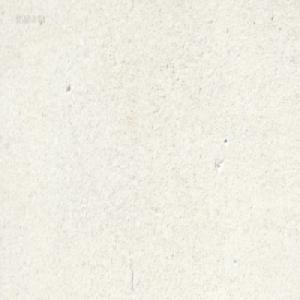Wrench: (115, 0, 121, 4)
